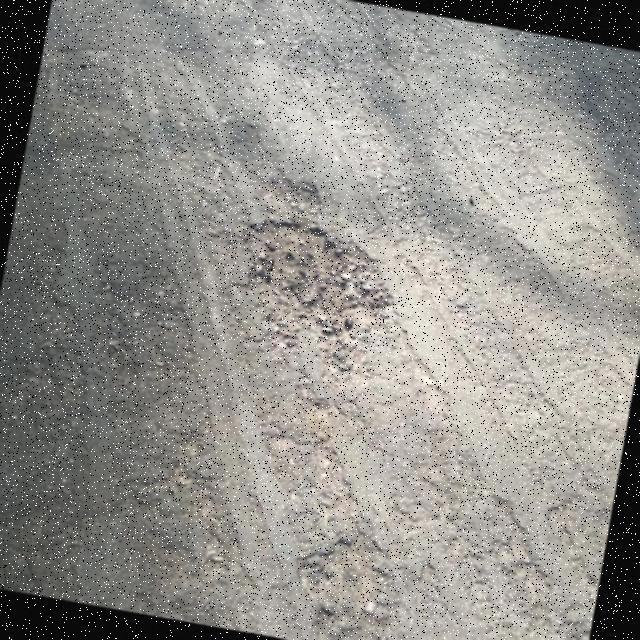Pothole: (244, 218, 386, 377), (257, 169, 319, 221)
